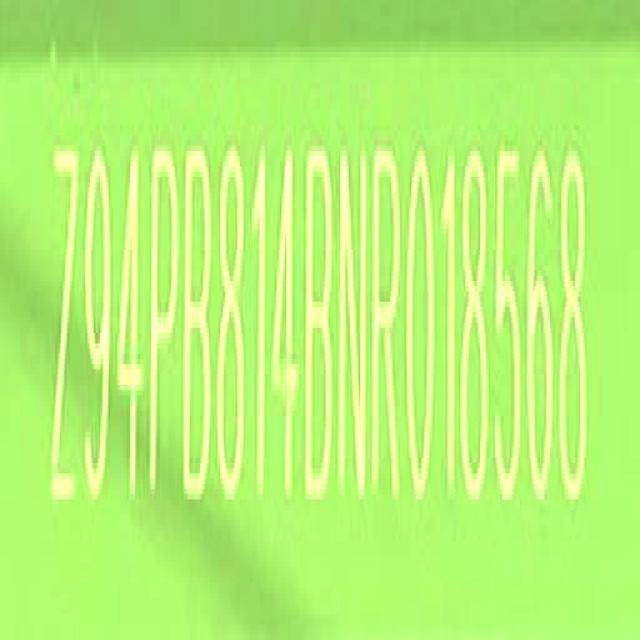0: (406, 137, 438, 501)
1: (250, 148, 268, 511), (442, 152, 458, 499)
4: (115, 138, 145, 512), (268, 148, 296, 512)
5: (495, 141, 523, 503)
6: (522, 140, 555, 507)
8: (214, 137, 246, 516), (459, 146, 491, 501), (557, 148, 589, 499)
9: (84, 142, 112, 510)
B: (182, 131, 212, 509), (303, 146, 334, 507)
N: (337, 137, 367, 507)
P: (145, 131, 181, 507)
R: (370, 144, 403, 505)
Z: (49, 133, 82, 518)
